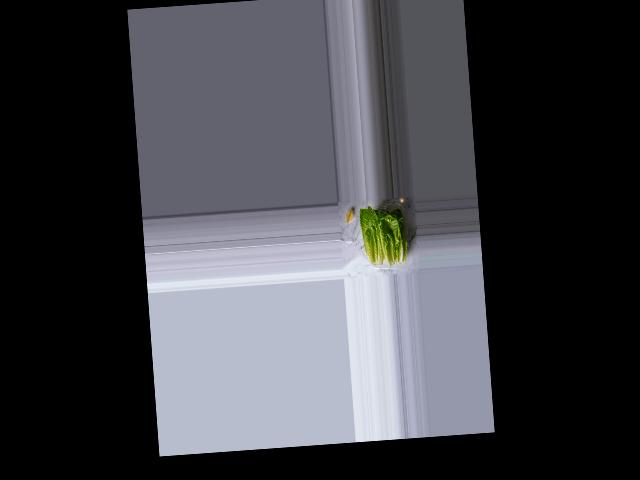lettuce: (356, 202, 410, 267)
